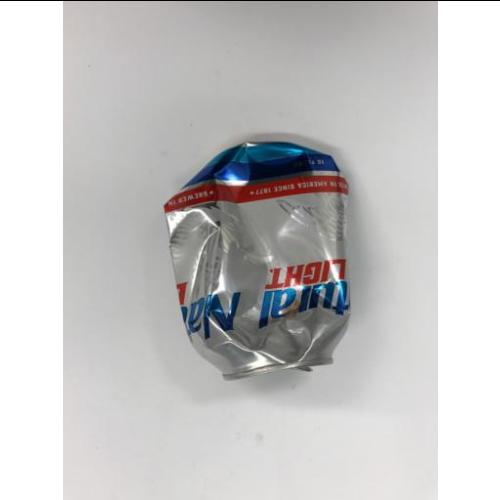metal: (164, 141, 344, 380)
